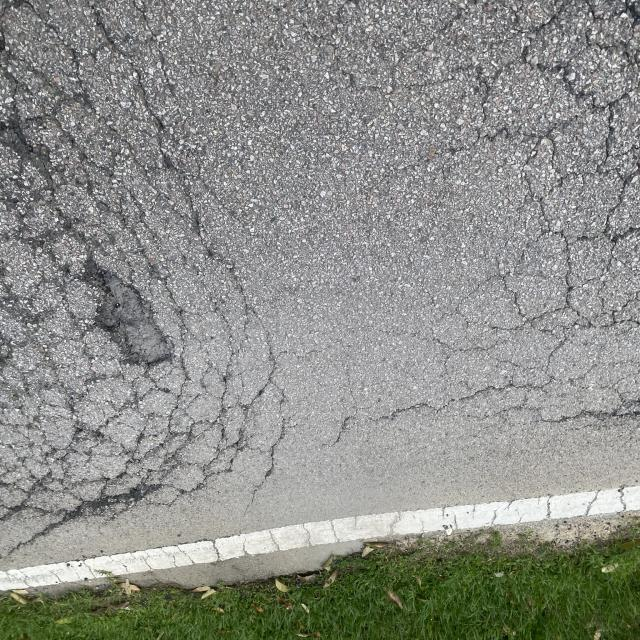pothole: (50, 216, 188, 432)
